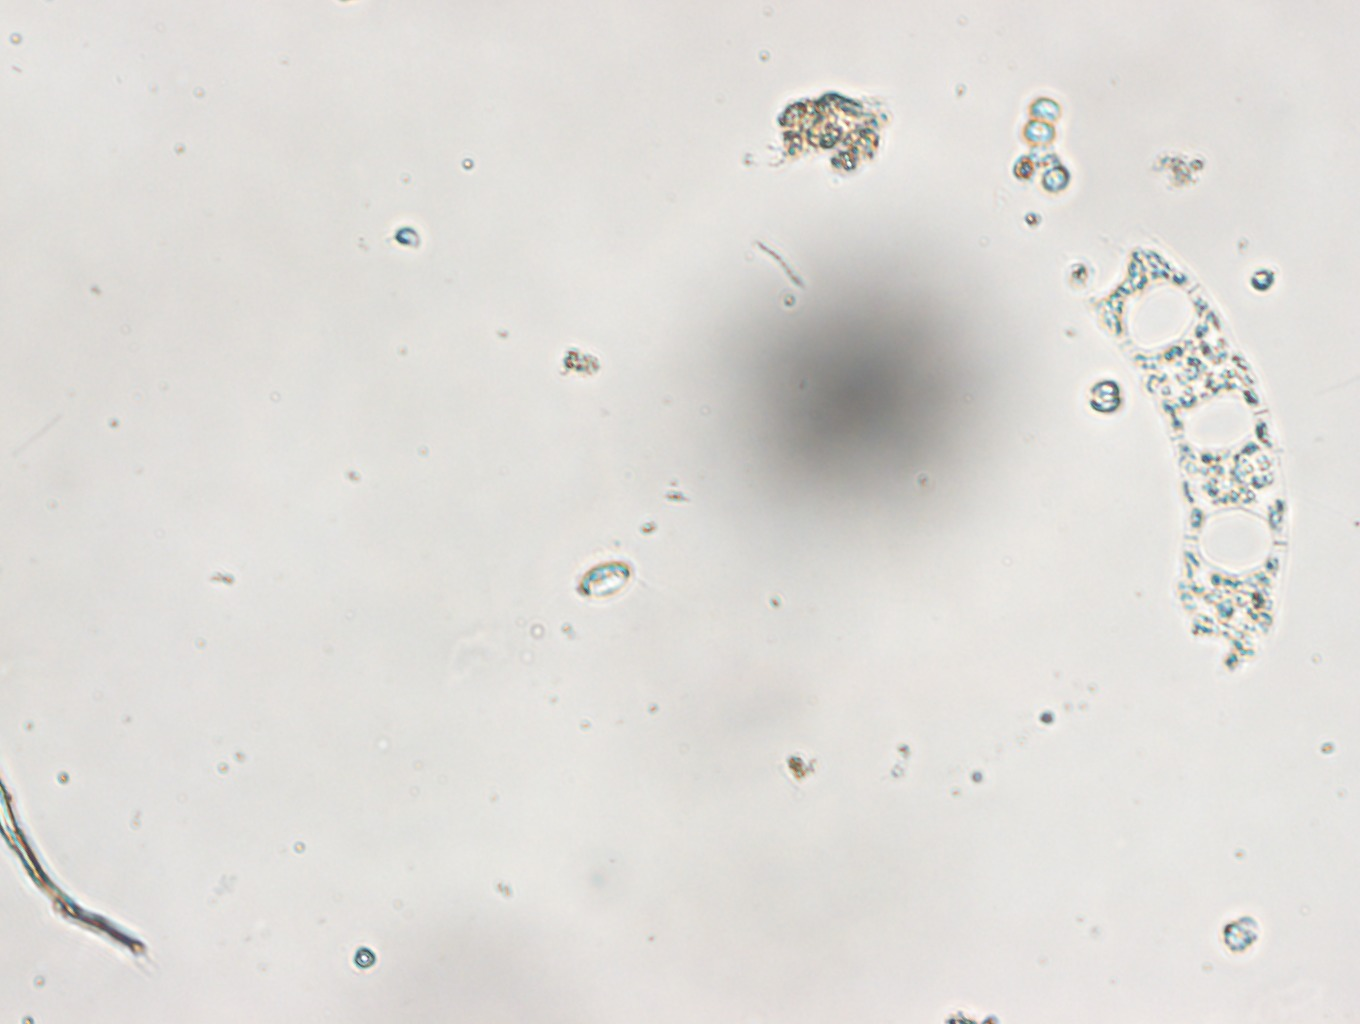eucampia: (1075, 224, 1305, 684)
